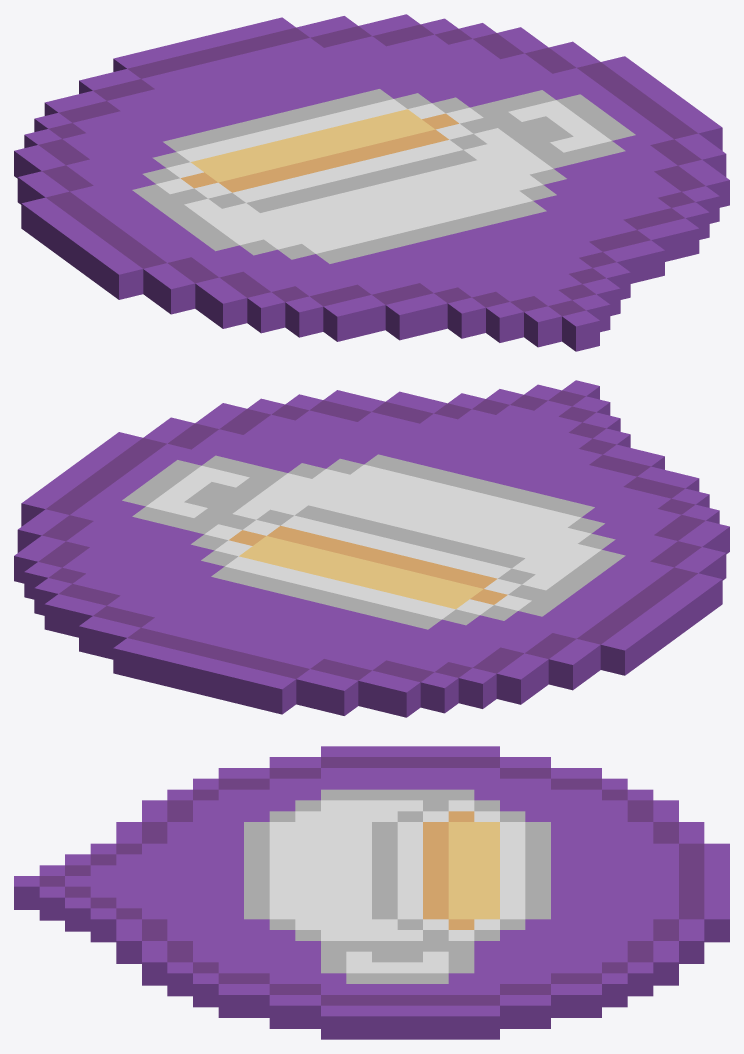
Rendered from Soy_milk_pic.fbx.
The picture shows the model from 3 angles, top to bottom: view 1: azimuth 30°, elevation 25°; view 2: azimuth 150°, elevation 25°; view 3: azimuth 270°, elevation 25°; orthographic projection. The views are drawn at different scales.
Parts seen in each view (by area): view 1: soy_milk_pic:soy_milk_pic; view 2: soy_milk_pic:soy_milk_pic; view 3: soy_milk_pic:soy_milk_pic.
Boxes of the visible parts, left/top/right/bottom form: soy_milk_pic:soy_milk_pic: left=14, top=14, right=729, bottom=351; soy_milk_pic:soy_milk_pic: left=14, top=380, right=729, bottom=717; soy_milk_pic:soy_milk_pic: left=14, top=746, right=729, bottom=1039.
Bounding box in the file's own units: 25 × 1 × 28.
